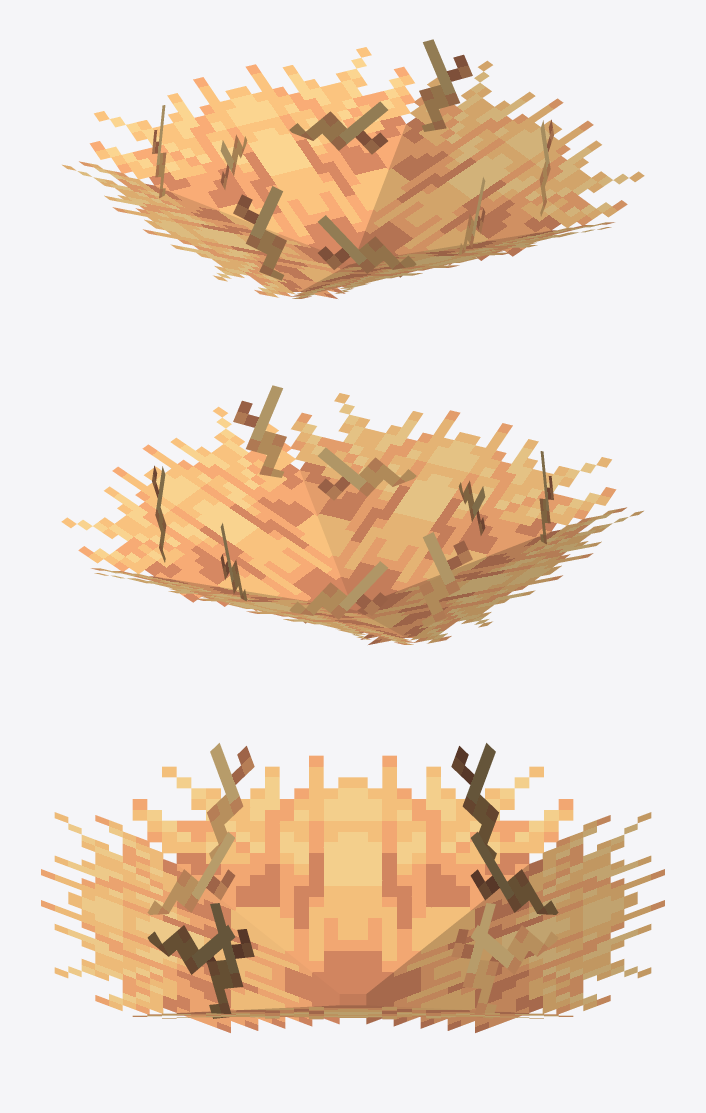
File: straw-egg-empty.gltf
3 views of the same model, one above another, from view 1: azimuth 30°, elevation 25°; view 2: azimuth 150°, elevation 25°; view 3: azimuth 270°, elevation 25° (orthographic). The views are drawn at different scales.
Visible parts, largest first — view 1: cube (×12); view 2: cube (×12); view 3: cube (×12).
Boxes of the visible parts, x1,y1,x2,y2 form: cube (×12): [62, 39, 644, 298]; cube (×12): [61, 385, 643, 644]; cube (×12): [41, 743, 664, 1032].
Bounding box in the file's own units: 1.01 × 0.3256 × 1.01.
Materials: 1 (1 with a texture image).
